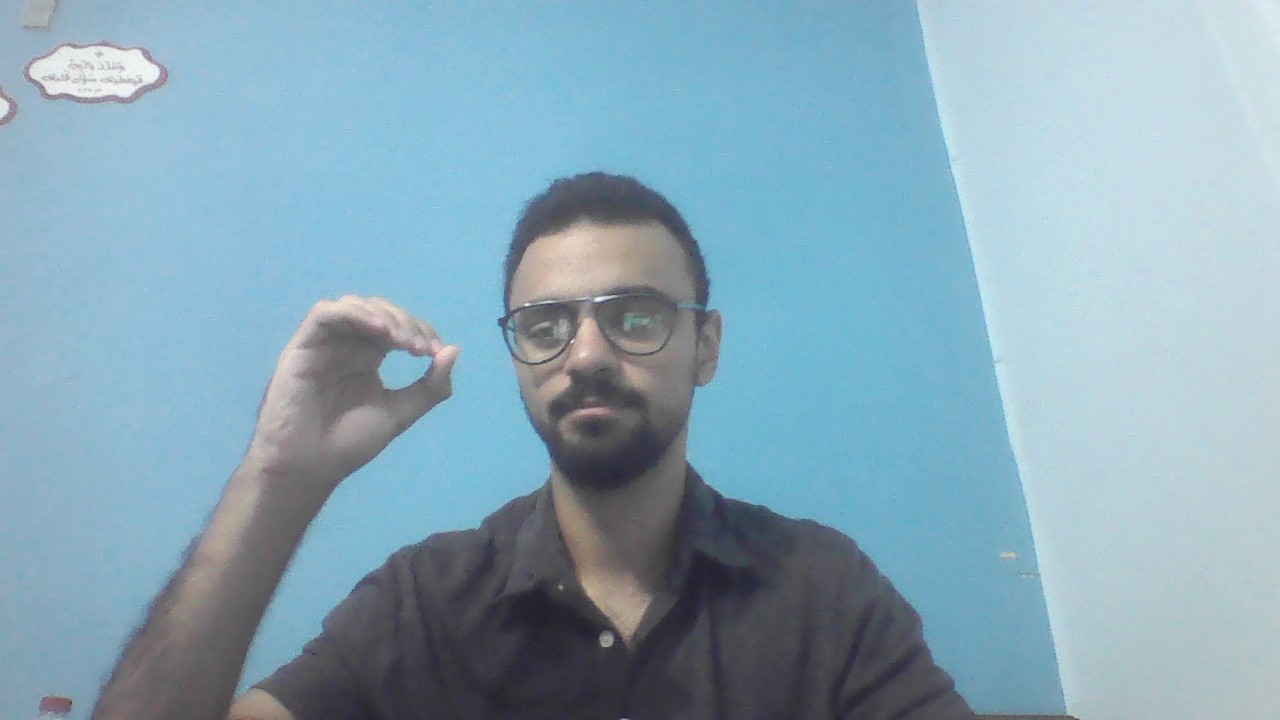okay: (252, 293, 461, 477)
